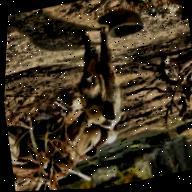boar: (62, 22, 132, 137)
